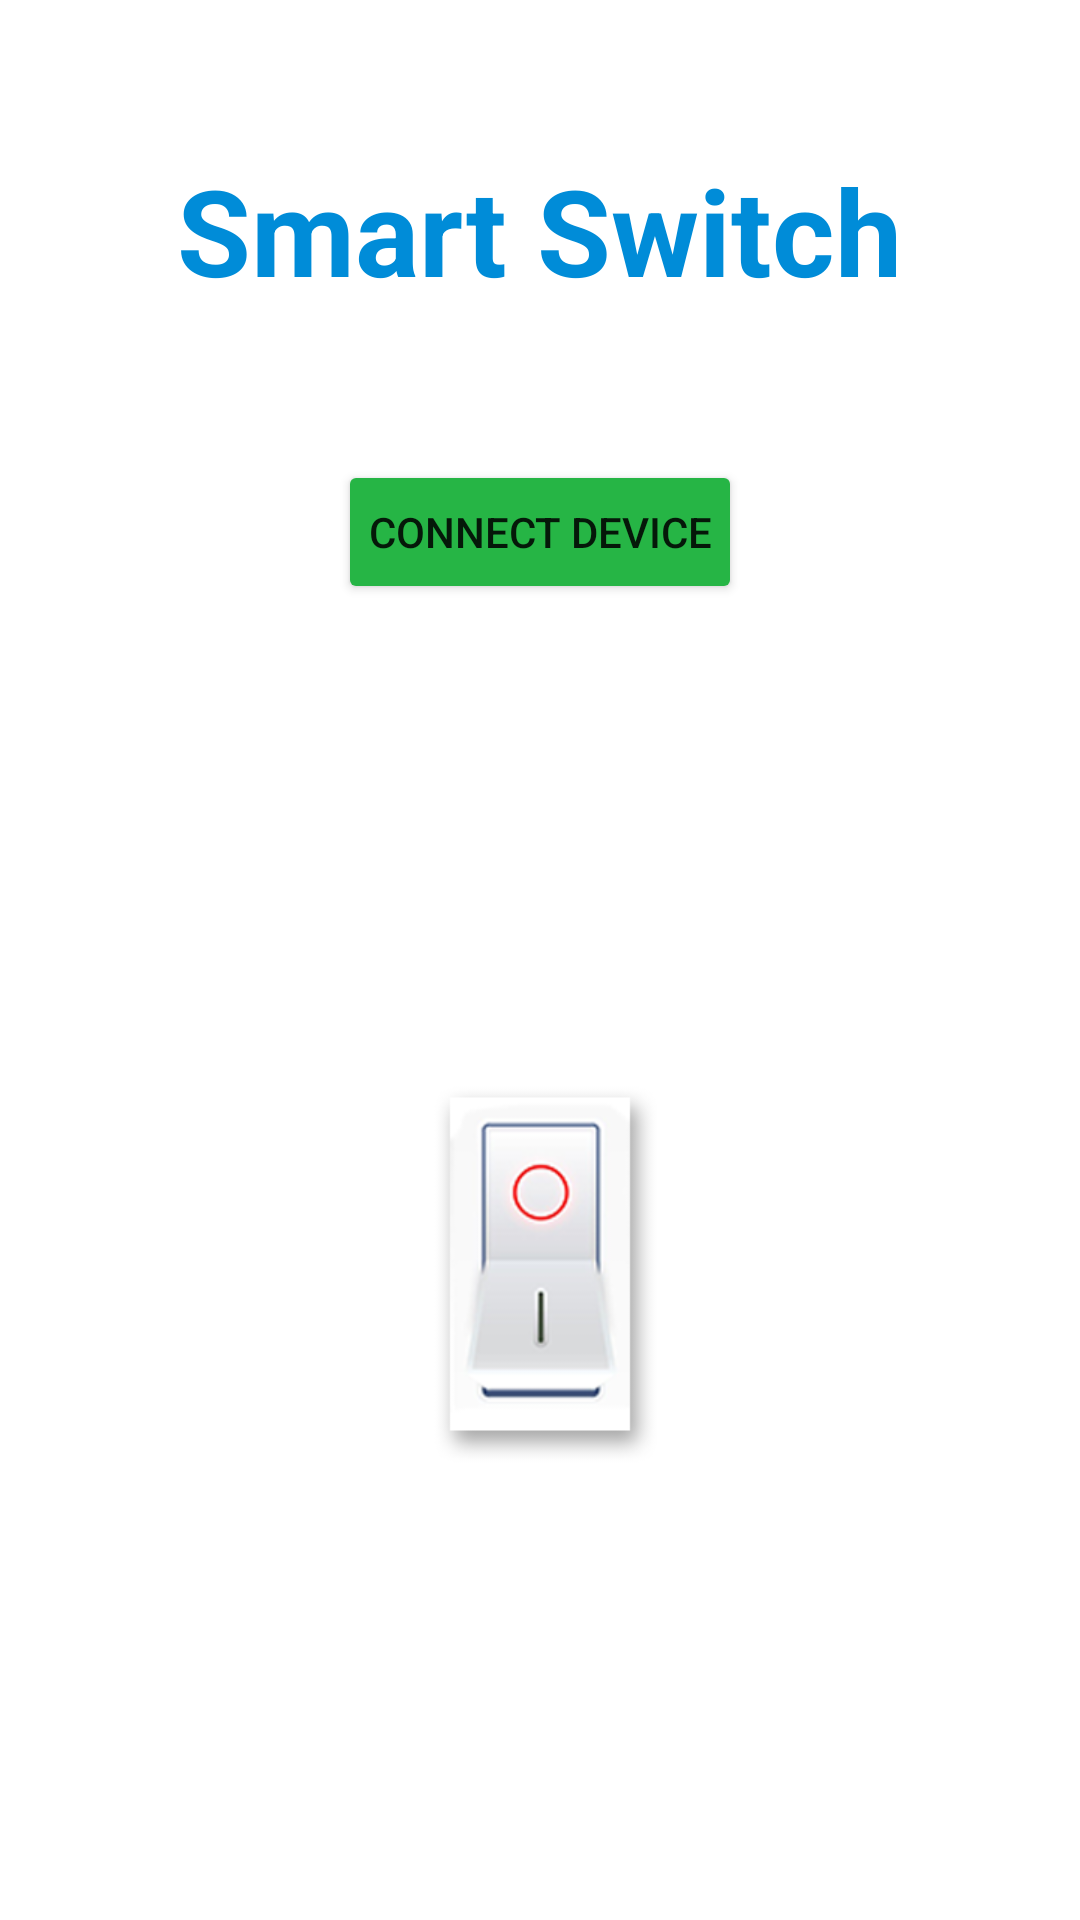

Screen size 1080px×1920px. Icon name, then its center in pixels as point (x, y):
off: point (546, 1276)
